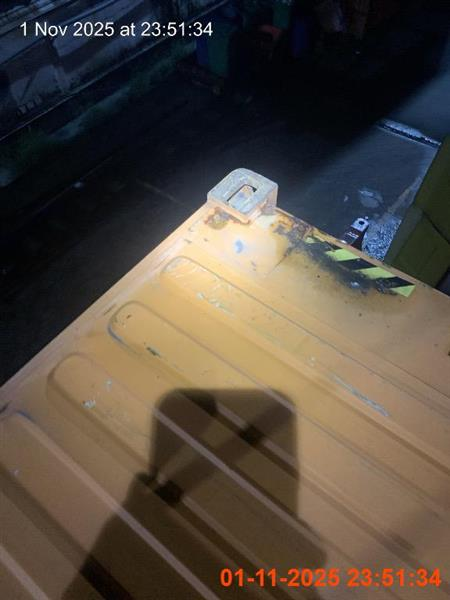crack: (0, 164, 449, 599)
